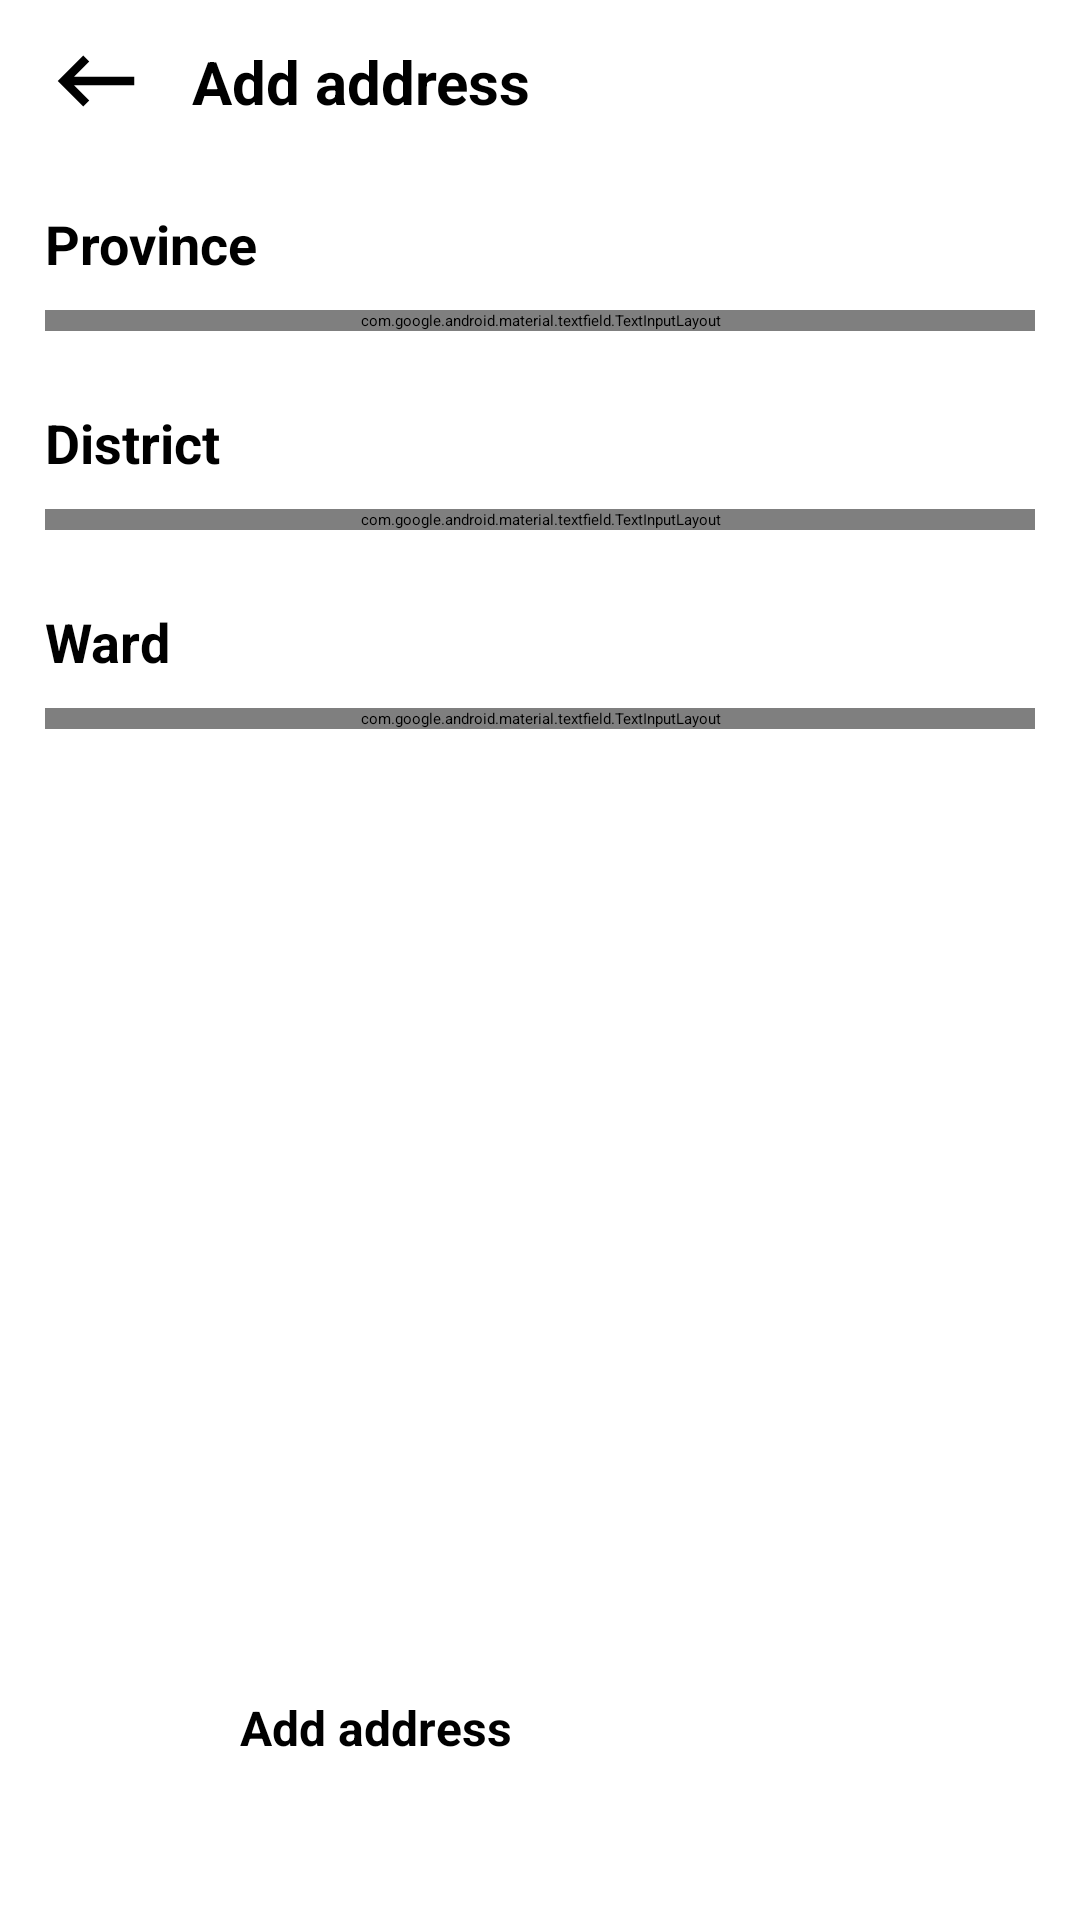

Point at icon controls on the screen. Image size 1080*1920, points as point (x, y).
keyboard backspace: point (96, 81)
